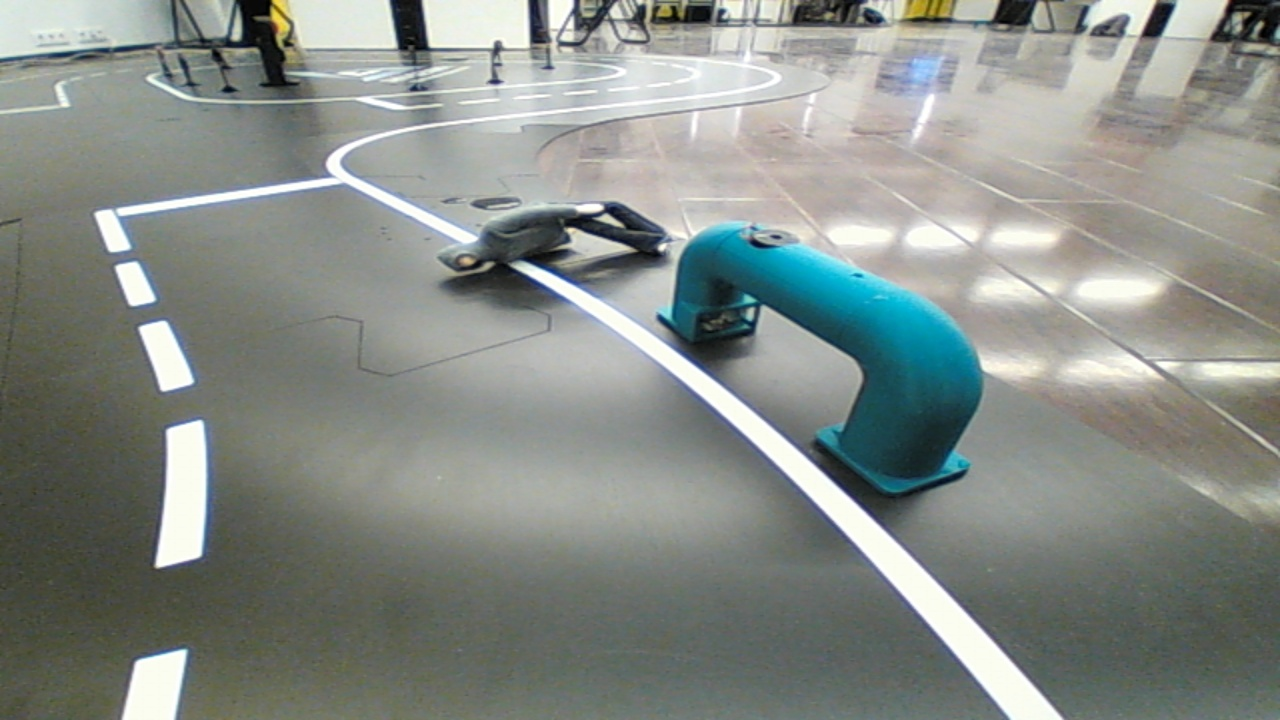Pedestrian crossing: (640, 202, 993, 499)
Road works: (420, 184, 684, 291)
